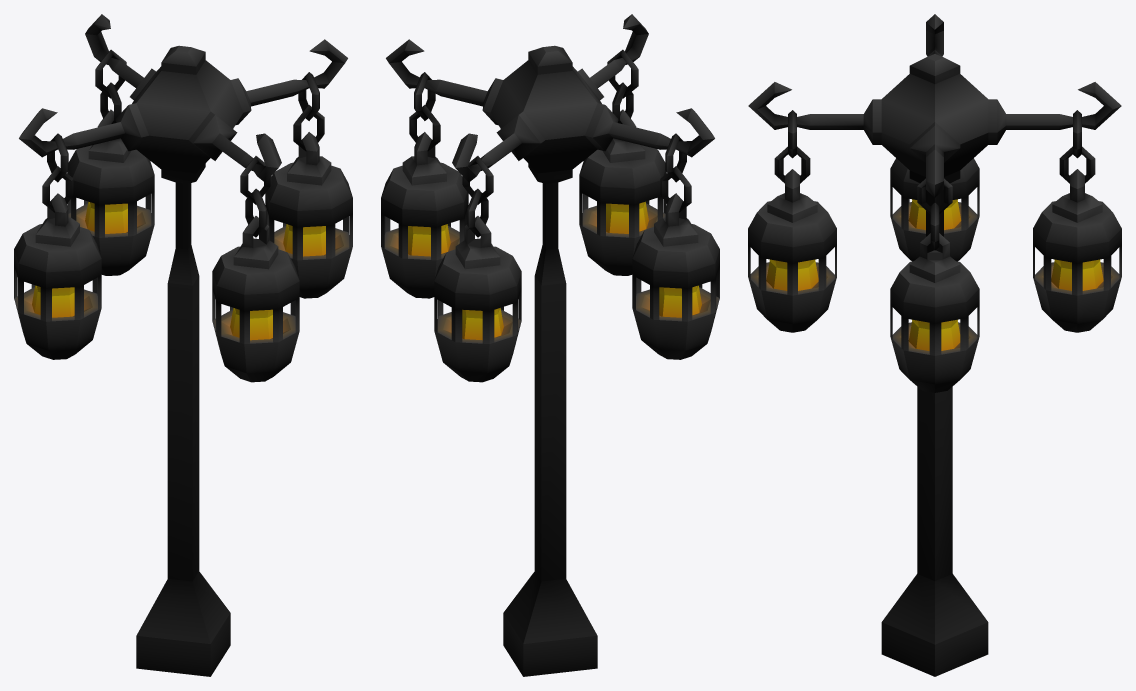
File: lightpost_quad_vis.fbx
The picture shows the model from 3 angles, left to right: view 1: azimuth 30°, elevation 25°; view 2: azimuth 150°, elevation 25°; view 3: azimuth 270°, elevation 25°; orthographic projection.
Visible parts, largest first — view 1: Quad lightpost vis mesh; view 2: Quad lightpost vis mesh; view 3: Quad lightpost vis mesh.
Boxes of the visible parts, box(x1,y1,x2,y2) form: Quad lightpost vis mesh: box(14, 14, 352, 676); Quad lightpost vis mesh: box(381, 14, 719, 676); Quad lightpost vis mesh: box(748, 14, 1121, 676).
Bounding box in the file's own units: 210 × 370 × 210.
